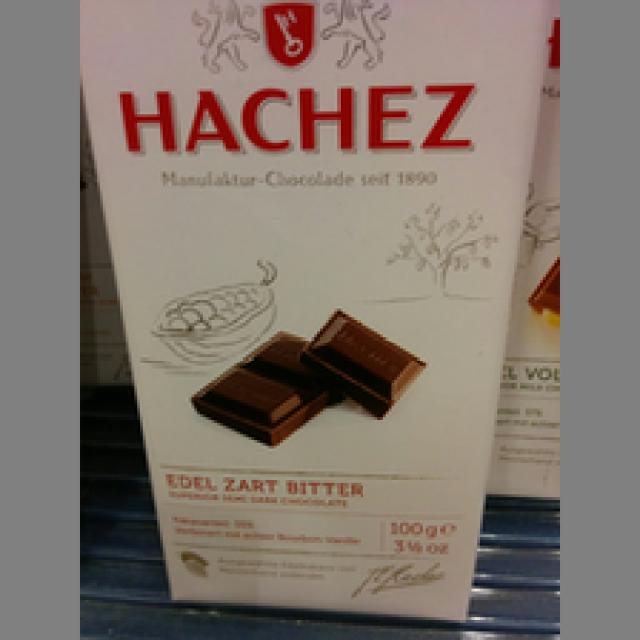groceries: (80, 0, 540, 614)
